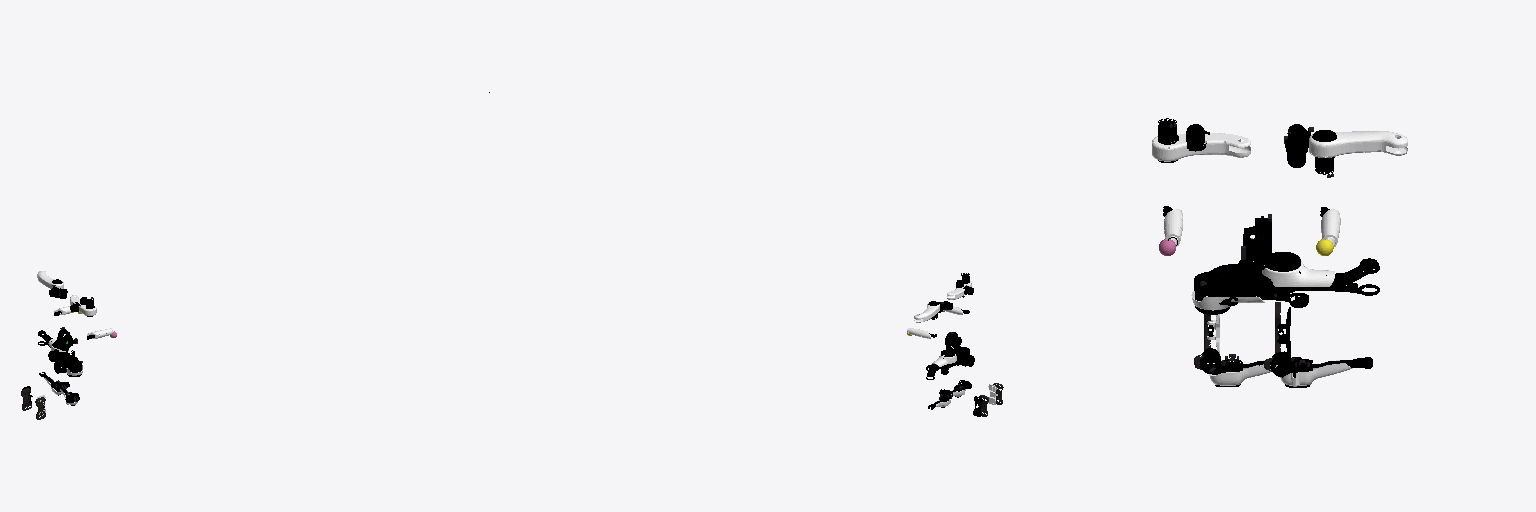
robot.urdf — WuKongIV:
<?xml version="1.0" encoding="utf-8"?>
<robot name="WuKongIV">
  <link name="SACRUM">
    <inertial>
      <origin xyz="0.00096078 -2.1928E-05 -0.025162" />
      <mass value="3.2422" />
      <inertia ixx="0.01008488" ixy="-8.7E-07" ixz="-0.00016364" iyy="0.00548956" iyz="-2.8E-07" izz="0.00997073" />
    </inertial>
    <visual>
      <origin rpy="1.57079632679 0 0" xyz="0 0 0"/>
      <geometry>
        <mesh filename="../meshes_dae/SACRUM.dae" />
      </geometry>
    </visual>
  </link>

  <link name="TORSO">
    <inertial>
      <origin xyz="0.002727 0.00010666 0.18215" />
      <mass value="14.544" />
      <inertia ixx="0.44797196" ixy="-0.00008178" ixz="-0.00554868" iyy="0.34075748" iyz="0.00021549" izz="0.17876604" />
    </inertial>
    <visual>
      <origin rpy="1.57079632679 0 0" xyz="0 0 0"/>
      <geometry>
        <mesh filename="../meshes_dae/TORSO.dae" />
      </geometry>
    </visual>
    <collision>
      <origin xyz="0 0 0.15" />
      <geometry>
        <box size="0.2 0.31 0.48"/>
      </geometry>
    </collision>
  </link>

  <joint name="Waist" type="revolute">
    <origin xyz="0.00010001 0 0.03751" />
    <parent link="SACRUM" />
    <child link="TORSO" />
    <axis xyz="0 0 1" />
    <limit lower="-0.698" upper="0.698" effort="84" velocity="7.85" />
    <dynamics damping="0" friction="0" />
  </joint>

  <link name="SCAPULA_R">
    <inertial>
      <origin xyz="-0.017297 -0.00031922 -0.0027747" />
      <mass value="1.0094" />
      <inertia ixx="0.00072781" ixy="0.00000511" ixz="0.00004844" iyy="0.00090651" iyz="0.0000138" izz="0.00084392" />
    </inertial>
    <visual>
      <origin rpy="1.57079632679 0 0" xyz="0 0 0"/>
      <geometry>
        <mesh filename="../meshes_dae/SCAPULA_R.dae" />
      </geometry>
    </visual>
  </link>

  <joint name="Shoulder_Z_R" type="revolute">
    <origin xyz="0 -0.1725 0.35275" />
    <parent link="TORSO" />
    <child link="SCAPULA_R" />
    <axis xyz="0 0 -1" />
    <limit lower="-0.366" upper="0.366" effort="100" velocity="4.1" />
    <dynamics damping="0" friction="0" />
  </joint>

  <link name="SHOULDER_R">
    <inertial>
      <origin xyz="-0.0030034 0.022918 0.00033814" />
      <mass value="0.95868" />
      <inertia ixx="0.00071081" ixy="-0.00006653" ixz="1.371E-06" iyy="0.00069481" iyz="0.00000687" izz="0.00077233" />
    </inertial>
    <visual>
      <origin rpy="1.57079632679 0 0" xyz="0 0 0"/>
      <geometry>
        <mesh filename="../meshes_dae/SHOULDER_R.dae" />
      </geometry>
    </visual>
  </link>

  <joint name="Shoulder_X_R" type="revolute">
    <origin xyz="0.05725 0 0" />
    <parent link="SCAPULA_R" />
    <child link="SHOULDER_R" />
    <axis xyz="-1 0 0" />
    <limit lower="-0.366" upper="0.366" effort="100" velocity="4.1" />
    <dynamics damping="0" friction="0" />
  </joint>

  <link name="UPPERARM_R">
    <inertial>
      <origin xyz="-0.0063123 0.020504 -0.048583" />
      <mass value="1.7239" />
      <inertia ixx="0.01622246" ixy="-0.00031829" ixz="-0.00100646" iyy="0.01499852" iyz="-0.00172217" izz="0.00352944" />
    </inertial>
    <visual>
      <origin rpy="1.57079632679 0 0" xyz="0 0 0"/>
      <geometry>
        <mesh filename="../meshes_dae/UPPERARM_R.dae" />
      </geometry>
    </visual>
    <collision>
      <origin xyz="-0.01 -0.005 -0.16" />
      <geometry>
        <box size="0.05 0.05 0.20" />
      </geometry>
    </collision> 
    <collision>
      <origin xyz="0 -0.01 0" rpy="1.57 0 0" />
      <geometry>
        <cylinder length="0.06" radius="0.05"/>
      </geometry>
    </collision> 
  </link>

  <joint name="Shoulder_Y_R" type="revolute">
    <origin xyz="0 -0.09525 0" />
    <parent link="SHOULDER_R" />
    <child link="UPPERARM_R" />
    <axis xyz="0 1 0" />
    <limit lower="-1.788" upper="0.714" effort="28" velocity="14.65" />
    <dynamics damping="0" friction="0" />
  </joint>

  <link name="FOREARM_R">
    <inertial>
      <origin xyz="0.10118 -0.00089188 -0.021779" />
      <mass value="0.37113" />
      <inertia ixx="0.00042911" ixy="0.00003147" ixz="0.00090579" iyy="0.00609032" iyz="-0.00000761" izz="0.00587061" />
    </inertial>
    <visual>
      <origin rpy="1.57079632679 0 0" xyz="0 0 0"/>
      <geometry>
        <mesh filename="../meshes_dae/FOREARM_R.dae" />
      </geometry>
    </visual>
  </link>

  <joint name="Elbow_R" type="revolute">
    <origin xyz="0 0 -0.25" />
    <parent link="UPPERARM_R" />
    <child link="FOREARM_R" />
    <axis xyz="0 1 0" />
    <limit lower="-1.274" upper="0.923" effort="28" velocity="14.65" />
    <dynamics damping="0" friction="0" />
  </joint>

  <link name="HAND_R">
    <inertial>
      <origin xyz="0.020883 0 -0.00068565" />
      <mass value="0.085665" />
      <inertia ixx="3.7989E-05" ixy="0" ixz="-2E-07" iyy="3.1765E-05" iyz="0" izz="3.1772E-05" />
    </inertial>
    <visual>
      <geometry>
        <sphere radius="0.03"/>
      </geometry>
      </visual>
    <collision>
      <origin xyz="0.01 0 0" />
      <geometry>
        <sphere radius="0.03"/>
      </geometry>
    </collision>
  </link>

  <joint name="Wrist_R" type="fixed">
    <origin xyz="0.22429 0 -0.0252" />
    <parent link="FOREARM_R" />
    <child link="HAND_R" />
    <dynamics damping="0" friction="0" />
  </joint>

  <link name="SCAPULA_L">
    <inertial>
      <origin xyz="-0.017301 0.00030058 -0.0027747" />
      <mass value="1.0094" />
      <inertia ixx="0.00072792" ixy="-5.71E-06" ixz="0.0000483" iyy="0.00090637" iyz="0.00001413" izz="0.0008439" />
    </inertial>
    <visual>
      <origin rpy="1.57079632679 0 0" xyz="0 0 0"/>
      <geometry>
        <mesh filename="../meshes_dae/SCAPULA_L.dae" />
      </geometry>
    </visual>
  </link>

  <joint name="Shoulder_Z_L" type="revolute">
    <origin xyz="0 0.1725 0.35275" />
    <parent link="TORSO" />
    <child link="SCAPULA_L" />
    <axis xyz="0 0 1" />
    <limit lower="-0.366" upper="0.366" effort="100" velocity="4.1" />
    <dynamics damping="0" friction="0" />
  </joint>

  <link name="SHOULDER_L">
    <inertial>
      <origin xyz="-0.0030034 -0.022922 0.00031317" />
      <mass value="0.95868" />
      <inertia ixx="0.00071064" ixy="0.00006639" ixz="0.00001402" iyy="0.00069483" iyz="-0.00000745" izz="0.00077215" />
    </inertial>
    <visual>
      <origin rpy="1.57079632679 0 0" xyz="0 0 0"/>
      <geometry>
        <mesh filename="../meshes_dae/SHOULDER_L.dae" />
      </geometry>
    </visual>
  </link>

  <joint name="Shoulder_X_L" type="revolute">
    <origin xyz="0.05725 0 0" />
    <parent link="SCAPULA_L" />
    <child link="SHOULDER_L" />
    <axis xyz="1 0 0" />
    <limit lower="-0.366" upper="0.366" effort="100" velocity="4.1" />
    <dynamics damping="0" friction="0" />
  </joint>

  <link name="UPPERARM_L">
    <inertial>
      <origin xyz="-0.0056932 -0.020527 -0.048691" />
      <mass value="1.7224" />
      <inertia ixx="0.01539894" ixy="-1.954E-05" ixz="-0.00132865" iyy="0.01452480" iyz="0.00199437" izz="0.00387488" />
    </inertial>
    <visual>
      <origin rpy="1.57079632679 0 0" xyz="0 0 0"/>
      <geometry>
        <mesh filename="../meshes_dae/UPPERARM_L.dae" />
      </geometry>
    </visual>
    <collision>
      <origin xyz="-0.01 0.005 -0.16" />
      <geometry>
        <box size="0.05 0.05 0.20" />
      </geometry>
    </collision> 
    <collision>
      <origin xyz="0 0.01 0" rpy="1.57 0 0" />
      <geometry>
        <cylinder length="0.06" radius="0.05"/>
      </geometry>
    </collision> 
  </link> 

  <joint name="Shoulder_Y_L" type="revolute">
    <origin xyz="0 0.09525 0" />
    <parent link="SHOULDER_L" />
    <child link="UPPERARM_L" />
    <axis xyz="0 1 0" />
    <limit lower="-1.788" upper="0.714" effort="28" velocity="14.65" />
    <dynamics damping="0" friction="0" />
  </joint>

  <link name="FOREARM_L">
    <inertial>
      <origin xyz="0.10119 0.00088935 -0.02178" />
      <mass value="0.37117" />
      <inertia ixx="0.00025279" ixy="0.00000211" ixz="8.779E-05" iyy="0.00211374" iyz="4.4E-07" izz="0.00206977" />
    </inertial>
    <visual>
      <origin rpy="1.57079632679 0 0" xyz="0 0 0"/>
      <geometry>
        <mesh filename="../meshes_dae/FOREARM_L.dae" />
      </geometry>
    </visual>
  </link>

  <joint name="Elbow_L" type="revolute">
    <origin xyz="0 0 -0.25" />
    <parent link="UPPERARM_L" />
    <child link="FOREARM_L" />
    <axis xyz="0 1 0" />
    <limit lower="-1.274" upper="0.923" effort="28" velocity="14.65" />
    <dynamics damping="0" friction="0" />
  </joint>

  <link name="HAND_L">
    <inertial>
      <origin xyz="0.021882 4.6532E-07 -0.00071846" />
      <mass value="0.085665" />
      <inertia ixx="3.7989E-05" ixy="0" ixz="-2E-07" iyy="3.1765E-05" iyz="0" izz="3.1772E-05" />
    </inertial>
    <visual>
      <geometry>
        <sphere radius="0.03"/>
      </geometry>
    </visual>
    <collision>
      <origin xyz="0.01 0 0" />
      <geometry>
        <sphere radius="0.03"/>
      </geometry>
    </collision>
  </link>

  <joint name="Wrist_L" type="fixed">
    <origin xyz="0.2243 0 -0.02505" />
    <parent link="FOREARM_L" />
    <child link="HAND_L" />
    <dynamics damping="0" friction="0" />
  </joint>

  <link name="ILIUM_R">
    <inertial>
      <origin xyz="-0.075151 -0.029746 0.011661" />
      <mass value="1.6695" />
      <inertia ixx="0.0031277" ixy="-0.00030585" ixz="-0.00138371" iyy="0.00641746" iyz="-0.00027709" izz="0.00540224" />
    </inertial>
    <visual>
      <origin rpy="1.57079632679 0 0" xyz="0 0 0"/>
      <geometry>
        <mesh filename="../meshes_dae/ILIUM_R.dae" />
      </geometry>
    </visual>
    <collision>
      <origin xyz="-0.129 -0.032 0" rpy="0 1.57 0" />
      <geometry>
        <cylinder length="0.02" radius="0.046"/>
      </geometry>
    </collision>
  </link>

  <joint name="Hip_Z_R" type="revolute">
    <origin xyz="0.00010001 -0.045 -0.15049" />
    <parent link="SACRUM" />
    <child link="ILIUM_R" />
    <axis xyz="0 0 -1" />
    <limit lower="-0.21" upper="0.216" effort="84" velocity="7.85" />
    <dynamics damping="0" friction="0" />
  </joint>

  <link name="ISCHIUM_R">
    <inertial>
      <origin xyz="-0.0061454 0.0083018 -0.00041435" />
      <mass value="1.489" />
      <inertia ixx="0.00123482" ixy="-8.78E-05" ixz="-0.00003823" iyy="0.00216773" iyz="-7.68E-06" izz="0.00170290" />
    </inertial>
    <visual>
      <origin rpy="1.57079632679 0 0" xyz="0 0 0"/>
      <geometry>
        <mesh filename="../meshes_dae/ISCHIUM_R.dae" />
      </geometry>
    </visual>
  </link>

  <joint name="Hip_X_R" type="revolute">
    <origin xyz="0 -0.0325 0" />
    <parent link="ILIUM_R" />
    <child link="ISCHIUM_R" />
    <axis xyz="-1 0 0" />
    <limit lower="-0.204" upper="0.370" effort="84" velocity="7.85" />
    <dynamics damping="0" friction="0" />
  </joint>

  <link name="THIGH_R">
    <inertial>
      <origin xyz="0.0047566 -0.027902 -0.039381" />
      <mass value="3.5319" />
      <inertia ixx="0.02861456" ixy="-0.00013987" ixz="0.00177396" iyy="0.02934292" iyz="0.00138919" izz="0.00585688" />
    </inertial>
    <visual>
      <origin rpy="1.57079632679 0 0" xyz="0 0 0"/>
      <geometry>
        <mesh filename="../meshes_dae/THIGH_R.dae" />
      </geometry>
    </visual>
    <collision>
      <origin xyz="0 -0.02 -0.19" />
      <geometry>
        <cylinder length="0.18" radius="0.05"/>
      </geometry>
    </collision>
    <collision>
      <origin xyz="0 -0.04 -0.01" rpy="1.57 0 0" />
      <geometry>
        <cylinder length="0.10" radius="0.066"/>
      </geometry>
    </collision>
  </link>

  <joint name="Hip_Y_R" type="revolute">
    <origin xyz="0 -0.0432 0" />
    <parent link="ISCHIUM_R" />
    <child link="THIGH_R" />
    <axis xyz="0 1 0" />
    <limit lower="-2.215" upper="0.125" effort="84" velocity="7.85" />
    <dynamics damping="0" friction="0" />
  </joint>

  <link name="SHANK_R">
    <inertial>
      <origin xyz="0.010628 -0.0095812 -0.051247" />
      <mass value="2.7397" />
      <inertia ixx="0.01492817" ixy="-0.00027923" ixz="0.00061306" iyy="0.01461087" iyz="0.00072764" izz="0.00321124" />
    </inertial>
    <visual>
      <origin rpy="1.57079632679 0 0" xyz="0 0 0"/>
      <geometry>
        <mesh filename="../meshes_dae/SHANK_R.dae" />
      </geometry>
    </visual>
    <collision>
      <origin xyz="0.02 0 -0.18" rpy="0 0.3 0" />
      <geometry>
        <cylinder length="0.14" radius="0.02"/>
      </geometry>
    </collision>
    <collision>
      <origin xyz="0.05 0 -0.04" rpy="0 1.57 0" />
      <geometry>
        <cylinder length="0.05" radius="0.036"/>
      </geometry>
    </collision>
  </link>

  <joint name="Knee_R" type="revolute">
    <origin xyz="0 0 -0.3" />
    <parent link="THIGH_R" />
    <child link="SHANK_R" />
    <axis xyz="0 1 0" />
    <limit lower="0.34" upper="2.70" effort="180" velocity="12" />
    <dynamics damping="0" friction="0" />
  </joint>

  <link name="ASTRAGALUS_R">
    <inertial>
      <origin xyz="-0.014376 -3.454E-05 0.0057672" />
      <mass value="0.068615" />
      <inertia ixx="8.86E-06" ixy="-2E-08" ixz="5.49E-07" iyy="0.00002951" iyz="4E-08" izz="0.00002574" />
    </inertial>
    <visual>
      <origin rpy="1.57079632679 0 0" xyz="0 0 0"/>
      <geometry>
        <mesh filename="../meshes_dae/ASTRAGALUS.dae" />
      </geometry>
    </visual>
  </link>

  <joint name="Ankle_Y_R" type="revolute">
    <origin xyz="0 0 -0.3" />
    <parent link="SHANK_R" />
    <child link="ASTRAGALUS_R" />
    <axis xyz="0 1 0" />
    <limit lower="-1.0" upper="0.19" effort="28" velocity="14.65" />
    <dynamics damping="0" friction="0" />
  </joint>

  <link name="FOOT_R">
    <inertial>
      <origin xyz="-5.1084E-10 -0.0010736 -0.024732" />
      <mass value="0.23297" />
      <inertia ixx="0.00010981" ixy="-2.5096E-10" ixz="8.0022E-13" iyy="0.00058824" iyz="3.92E-06" izz="0.00065893" />
    </inertial>
    <visual>
      <origin rpy="1.57079632679 0 0" xyz="0 0 0"/>
      <geometry>
        <mesh filename="../meshes_dae/FOOT_R.dae" />
      </geometry>
    </visual>
  </link>

  <joint name="Ankle_X_R" type="revolute">
    <parent link="ASTRAGALUS_R" />
    <child link="FOOT_R" />
    <axis xyz="-1 0 0" />
    <limit lower="-0.20" upper="0.24" effort="28" velocity="14.65" />
    <dynamics damping="0" friction="0" />
  </joint>

  <link name="TIPTOE_R">
    <inertial>
      <origin xyz="0.001 0.001 -0.0052715" />
      <mass value="0.19293" />
      <inertia ixx="0.00012184" ixy="0" ixz="0" iyy="0.00079695" iyz="0" izz="0.00090791" />
    </inertial>
    <visual>
      <origin rpy="1.57079632679 0 0" xyz="0 0 0"/>
      <geometry>
        <mesh filename="../meshes_dae/TIPTOE.dae" />
      </geometry>
    </visual>
    <collision>
      <origin xyz="0 0 0.01"/>
      <geometry>
        <box size="0.18 0.08 0.03"/>
      </geometry>
    </collision>
  </link>

  <joint name="Tiptoe_Z_R" type="fixed">
    <origin xyz="0 0 -0.031" />
    <parent link="FOOT_R" />
    <child link="TIPTOE_R" />
  </joint>

  <link name="ILIUM_L">
    <inertial>
      <origin xyz="-0.075166 0.029681 0.011765" />
      <mass value="1.6675" />
      <inertia ixx="0.00312613" ixy="0.0003" ixz="-0.0013813" iyy="0.00641573" iyz="0.00027496" izz="0.00540253" />
    </inertial>
    <visual>
      <origin rpy="1.57079632679 0 0" xyz="0 0 0"/>
      <geometry>
        <mesh filename="../meshes_dae/ILIUM_L.dae" />
      </geometry>
    </visual>
    <collision>
      <origin xyz="-0.129 0.032 0" rpy="0 1.57 0" />
      <geometry>
        <cylinder length="0.02" radius="0.046"/>
      </geometry>
    </collision>
  </link>

  <joint name="Hip_Z_L" type="revolute">
    <origin xyz="0.00010001 0.045 -0.15049" />
    <parent link="SACRUM" />
    <child link="ILIUM_L" />
    <axis xyz="0 0 1" />
    <limit lower="-0.21" upper="0.21" effort="84" velocity="7.85" />
    <dynamics damping="0" friction="0" />
  </joint>

  <link name="ISCHIUM_L">
    <inertial>
      <origin xyz="-0.0061396 -0.0083018 -0.00049822" />
      <mass value="1.489" />
      <inertia ixx="0.00123473" ixy="0.00008691" ixz="-0.00003659" iyy="0.00216555" iyz="0.00000356" izz="0.00170081" />
    </inertial>
    <visual>
      <origin rpy="1.57079632679 0 0" xyz="0 0 0"/>
      <geometry>
        <mesh filename="../meshes_dae/ISCHIUM_L.dae" />
      </geometry>
    </visual>
  </link>

  <joint name="Hip_X_L" type="revolute">
    <origin xyz="0 0.0325 0" />
    <parent link="ILIUM_L" />
    <child link="ISCHIUM_L" />
    <axis xyz="1 0 0" />
    <limit lower="-0.21" upper="0.370" effort="84" velocity="7.85" />
    <dynamics damping="0" friction="0" />
  </joint>

  <link name="THIGH_L">
    <inertial>
      <origin xyz="0.0048204 0.029872 -0.039658" />
      <mass value="3.5416" />
      <inertia ixx="0.02873630" ixy="0.00014184" ixz="0.00179307" iyy="0.02945913" iyz="-0.00141552" izz="0.00587297" />
    </inertial>
    <visual>
      <origin rpy="1.57079632679 0 0" xyz="0 0 0"/>
      <geometry>
        <mesh filename="../meshes_dae/THIGH_L.dae" />
      </geometry>
    </visual>
    <collision>
      <origin xyz="0 0.02 -0.19" />
      <geometry>
        <cylinder length="0.18" radius="0.05"/>
      </geometry>
    </collision>
    <collision>
      <origin xyz="0 0.04 -0.01" rpy="1.57 0 0" />
      <geometry>
        <cylinder length="0.10" radius="0.066"/>
      </geometry>
    </collision>
  </link>

  <joint name="Hip_Y_L" type="revolute">
    <origin xyz="0 0.0412 0" />
    <parent link="ISCHIUM_L" />
    <child link="THIGH_L" />
    <axis xyz="0 1 0" />
    <limit lower="-2.207" upper="0.462" effort="84" velocity="7.85" />
    <dynamics damping="0" friction="0" />
  </joint>

  <link name="SHANK_L">
    <inertial>
      <origin xyz="0.010866 0.0095055 -0.052181" />
      <mass value="2.7463" />
      <inertia ixx="0.01498291" ixy="0.0002868" ixz="0.00062657" iyy="0.01462625" iyz="-0.00072343" izz="0.00332056" />
    </inertial>
    <visual>
      <origin rpy="1.57079632679 0 0" xyz="0 0 0"/>
      <geometry>
        <mesh filename="../meshes_dae/SHANK_L.dae" />
      </geometry>
    </visual>
    <collision>
      <origin xyz="0.02 0 -0.18" rpy="0 0.3 0" />
      <geometry>
        <cylinder length="0.14" radius="0.02"/>
      </geometry>
    </collision>
    <collision>
      <origin xyz="0.05 0 -0.04" rpy="0 1.57 0" />
      <geometry>
        <cylinder length="0.05" radius="0.036"/>
      </geometry>
    </collision>
  </link>

  <joint name="Knee_L" type="revolute">
    <origin xyz="0 0 -0.3" />
    <parent link="THIGH_L" />
    <child link="SHANK_L" />
    <axis xyz="0 1 0" />
    <limit lower="0.30" upper="2.65" effort="180" velocity="12" />
    <dynamics damping="0" friction="0" />
  </joint>

  <link name="ASTRAGALUS_L">
    <inertial>
      <origin xyz="-0.014376 -3.4496E-05 0.0057671" />
      <mass value="0.068615" />
      <inertia ixx="8.86E-06" ixy="-2E-08" ixz="5.49E-06" iyy="0.00002951" iyz="4E-08" izz="0.00002574" />
    </inertial>
    <visual>
      <origin rpy="1.57079632679 0 0" xyz="0 0 0"/>
      <geometry>
        <mesh filename="../meshes_dae/ASTRAGALUS.dae" />
      </geometry>
    </visual>
  </link>

  <joint name="Ankle_Y_L" type="revolute">
    <origin xyz="0 0 -0.3" />
    <parent link="SHANK_L" />
    <child link="ASTRAGALUS_L" />
    <axis xyz="0 1 0" />
    <limit lower="-1.0" upper="0.154" effort="28" velocity="14.65" />
    <dynamics damping="0" friction="0" />
  </joint>

  <link name="FOOT_L">
    <inertial>
      <origin xyz="1.1755E-08 0.0010736 -0.024732" />
      <mass value="0.23297" />
      <inertia ixx="0.00010981" ixy="-2.5096E-10" ixz="-8.0022E-13" iyy="0.00058824" iyz="-3.9216E-06" izz="0.00065893" />
    </inertial>
    <visual>
      <origin rpy="1.57079632679 0 0" xyz="0 0 0"/>
      <geometry>
        <mesh filename="../meshes_dae/FOOT_L.dae" />
      </geometry>
    </visual>
  </link>

  <joint name="Ankle_X_L" type="revolute">
    <parent link="ASTRAGALUS_L" />
    <child link="FOOT_L" />
    <axis xyz="1 0 0" />
    <limit lower="-0.207" upper="0.23" effort="28" velocity="14.65" />
    <dynamics damping="0" friction="0" />
  </joint>

  <link name="TIPTOE_L">
    <inertial>
      <origin xyz="0 0 -0.0052715" />
      <mass value="0.19293" />
      <inertia ixx="0.00012184" ixy="0" ixz="0" iyy="0.00079695" iyz="0" izz="0.00090791" />
    </inertial>
    <visual>
      <origin rpy="1.57079632679 0 0" xyz="0 0 0"/>
      <geometry>
        <mesh filename="../meshes_dae/TIPTOE.dae" />
      </geometry>
    </visual>
    <collision>
      <origin xyz="0 0 0.01"/>
      <geometry>
        <box size="0.18 0.08 0.03"/>
      </geometry>
    </collision>
  </link>

  <joint name="Tiptoe_Z_L" type="fixed">
    <origin xyz="0 0 -0.031" />
    <parent link="FOOT_L" />
    <child link="TIPTOE_L" />
  </joint>
</robot>

--- Facts derived from the render (not from the file) ---
Views: 3 orthographic renders of the robot side by side, from view 1: azimuth 30°, elevation 25°; view 2: azimuth 150°, elevation 25°; view 3: azimuth 270°, elevation 25°.
Model WuKongIV with 26 links and 25 joints (21 revolute, 4 fixed), rooted at SACRUM, posed joints at zero except 2 at the middle of their limits (Knee_R = 1.52, Knee_L = 1.48).
Links seen in each view (by area): view 1: none; view 2: none; view 3: THIGH_L, UPPERARM_L, UPPERARM_R, THIGH_R, SHANK_L, SHANK_R, SACRUM, ILIUM_L, SHOULDER_L, FOREARM_R, FOREARM_L.
Boxes of the visible links, x1,y1,x2,y2 form: THIGH_L: (1262, 252, 1379, 296); UPPERARM_L: (1309, 130, 1407, 177); UPPERARM_R: (1152, 118, 1250, 162); THIGH_R: (1191, 271, 1308, 314); SHANK_L: (1264, 351, 1372, 387); SHANK_R: (1194, 348, 1302, 386); SACRUM: (1241, 214, 1271, 269); ILIUM_L: (1232, 259, 1264, 292); SHOULDER_L: (1284, 133, 1308, 167); FOREARM_R: (1163, 206, 1182, 246); FOREARM_L: (1320, 207, 1340, 246).
Bounding box of the posed robot: 4.42 × 0.8754 × 1.9 m (x, y, z).
23 mesh visuals loaded from 22 distinct referenced files (21 Collada DAE); not drawn: 1 (reference not matched to a file when rendering).
